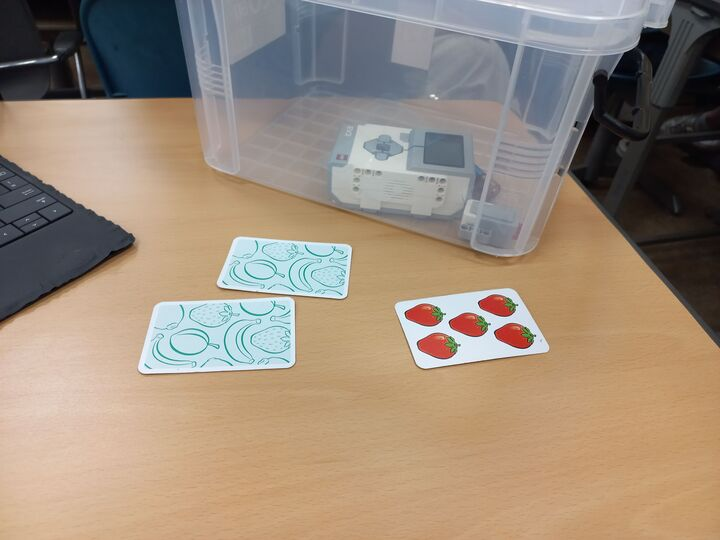strawberry5: (390, 286, 550, 371)
